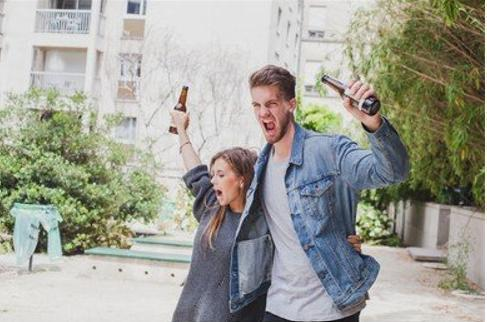Drunk: (251, 86, 285, 139), (211, 157, 239, 207)
